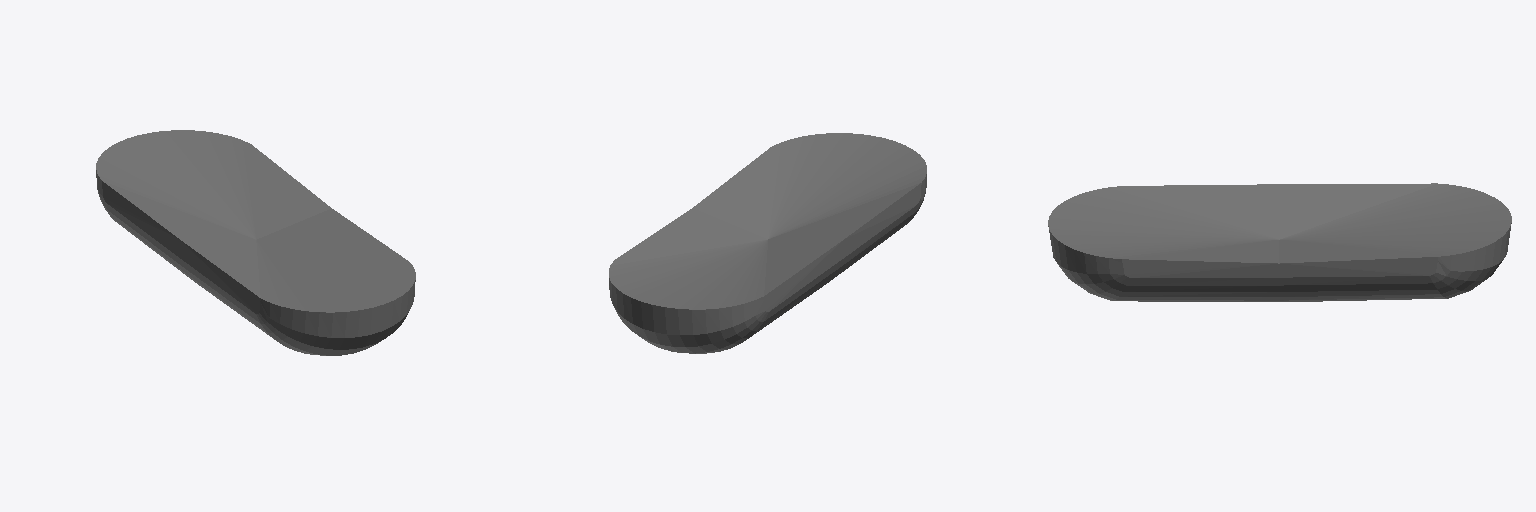
File: Hotdog_Bun.obj
3 renders of one model, left to right at view 1: azimuth 30°, elevation 25°; view 2: azimuth 150°, elevation 25°; view 3: azimuth 270°, elevation 25°, orthographic.
Parts seen in each view (by area): view 1: HotDogBun1:pSphere4; view 2: HotDogBun1:pSphere4; view 3: HotDogBun1:pSphere4.
Boxes of the visible parts, <box> form: HotDogBun1:pSphere4: <box>96,130,415,355</box>; HotDogBun1:pSphere4: <box>609,133,926,353</box>; HotDogBun1:pSphere4: <box>1048,183,1511,301</box>.
Size of the model in its own units: 2 by 0.9146 by 5.31.